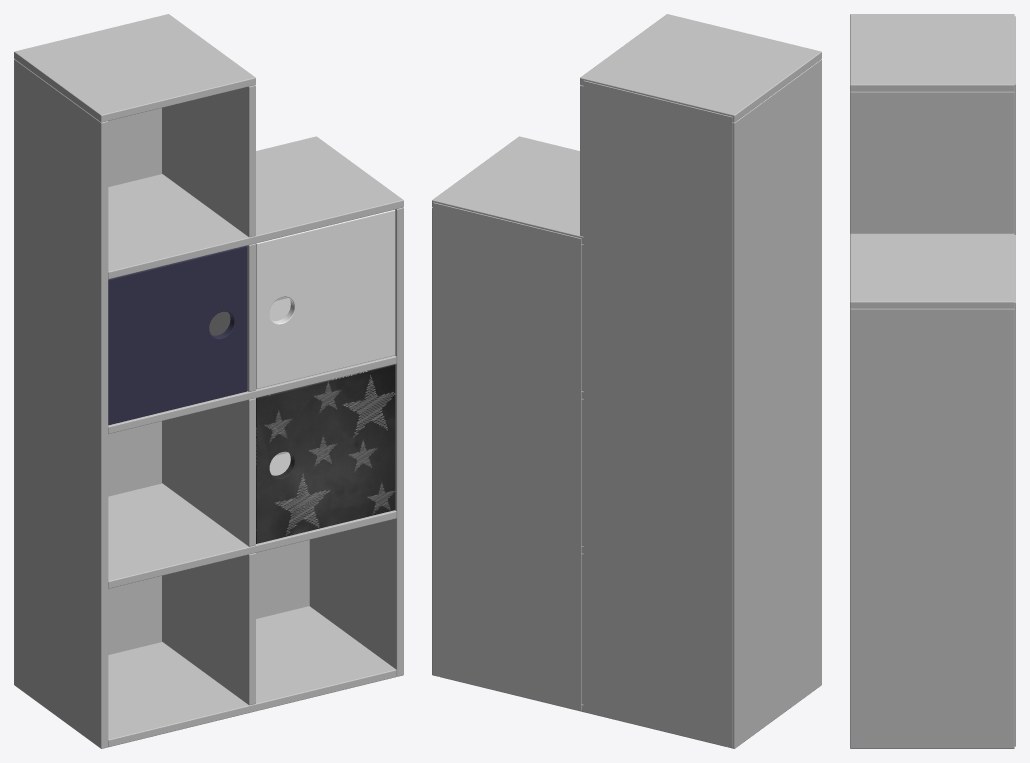
The model's file is BigDress.fbx.
The picture shows the model from 3 angles, left to right: view 1: azimuth 30°, elevation 25°; view 2: azimuth 150°, elevation 25°; view 3: azimuth 270°, elevation 25°; orthographic projection. The views are drawn at different scales.
Visible parts, largest first — view 1: shelving; view 2: shelving; view 3: shelving.
Boxes of the visible parts, x1,y1,x2,y2 form: shelving: (14, 14, 403, 748); shelving: (432, 14, 821, 748); shelving: (850, 14, 1015, 748).
Bounding box in the file's own units: 80 × 160 × 40.3.
